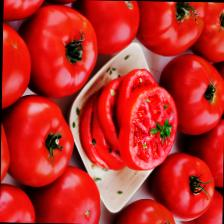tomato: (15, 2, 98, 99), (1, 93, 74, 188), (158, 52, 224, 136), (148, 151, 214, 222), (26, 164, 100, 224), (132, 0, 208, 56), (69, 0, 140, 55)
